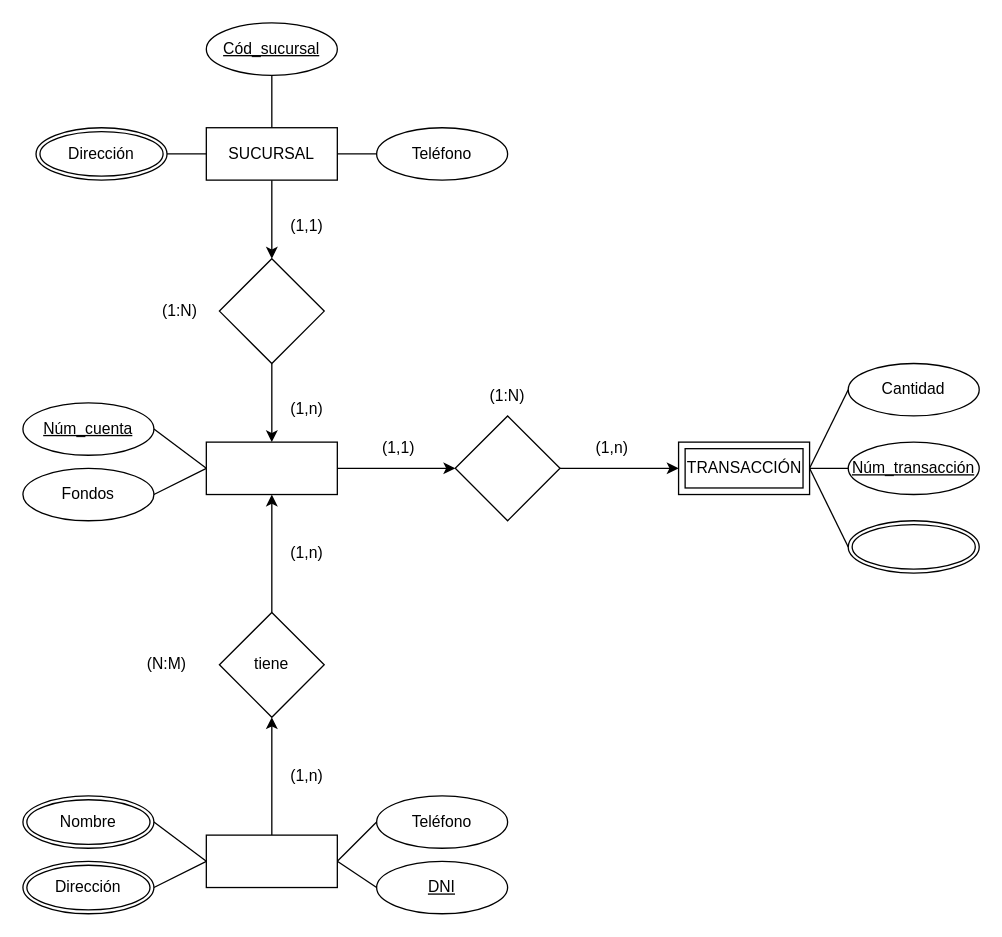
Some shapes in this 1002 by 937 pixel diagram are drawn without their labels. Each missing label, with the box of its shape:
CLIENTE: (205, 834, 337, 888)
CUENTA: (205, 441, 337, 495)
Fecha: (847, 519, 979, 573)
hay: (218, 257, 324, 364)
refleja: (454, 415, 560, 521)
